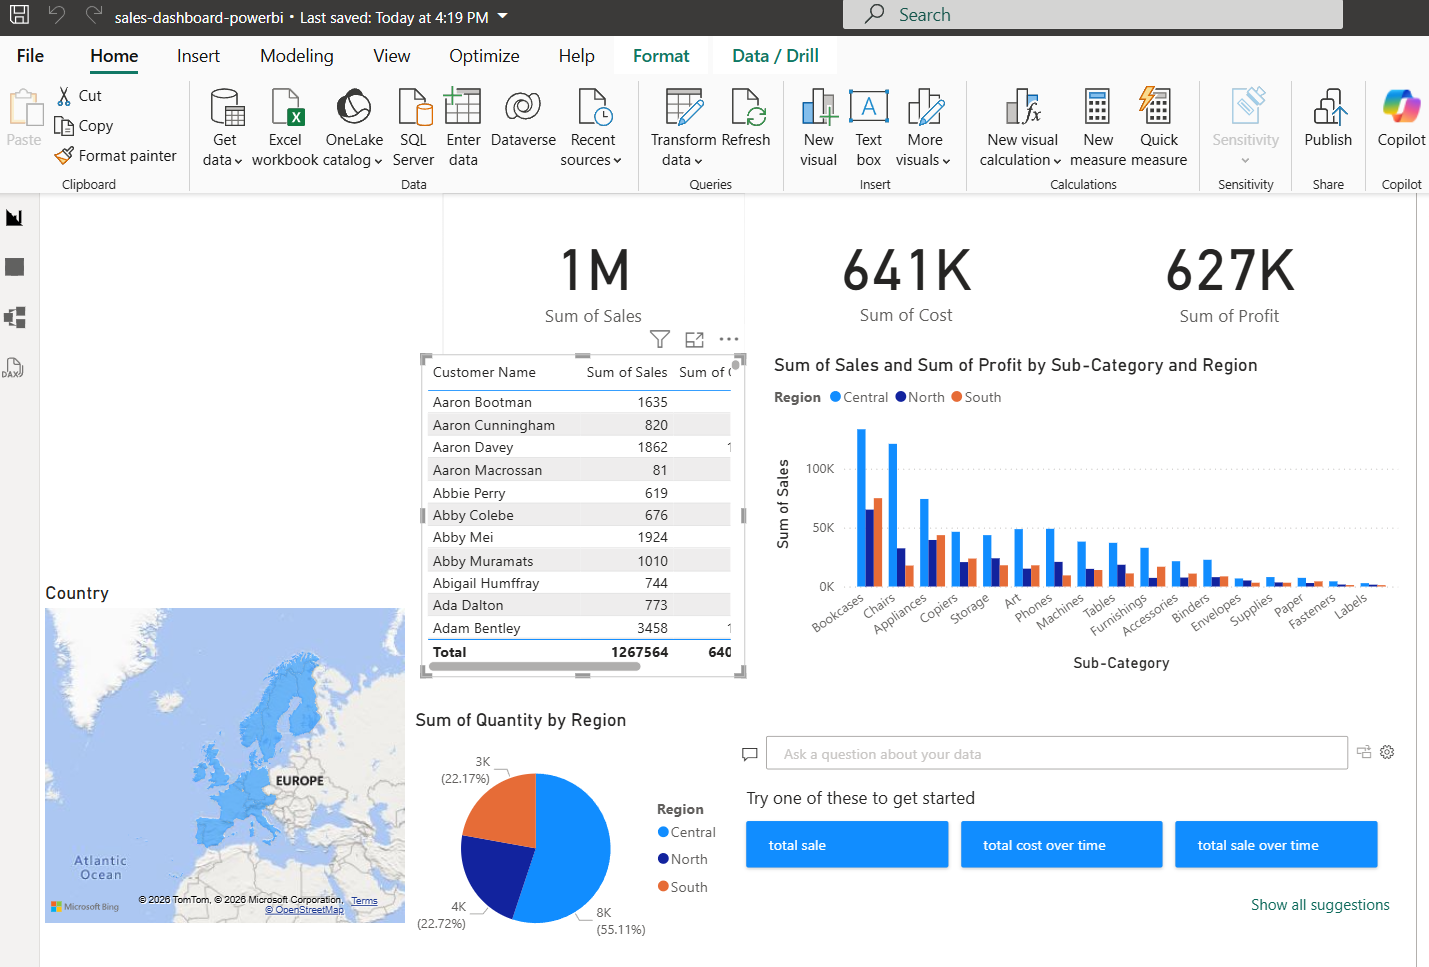

The page's visual inventory and layout, read from the dashboard file:
{"tool":"powerbi","page":{"name":"Page 1","canvas":[1280,720],"ordinal":0},"visuals":[{"type":"card","fields":{"Values":["Sum(List of Orders.Sales)"]},"box":[374.6,0,281.3,150.9],"z":0},{"type":"card","fields":{"Values":["Sum(List of Orders.Cost)"]},"box":[655.9,0,300.5,149.6],"z":1000},{"type":"card","fields":{"Values":["Sum(List of Orders.Profit)"]},"box":[944.1,0,325.2,150.9],"z":2000},{"type":"tableEx","fields":{"Values":["List of Orders.Customer Name","Sum(List of Orders.Sales)","Sum(List of Orders.Cost)","Sum(List of Orders.Profit)"]},"box":[354.1,149.9,302,299.8],"z":3000},{"type":"clusteredColumnChart","fields":{"Y":["Sum(List of Orders.Sales)"],"Category":["List of Orders.Sub-Category"],"Series":["List of Orders.Region"]},"box":[677.8,149.9,590.9,299.8],"z":4000},{"type":"pieChart","fields":{"Category":["List of Orders.Region"],"Y":["Sum(List of Orders.Quantity)"]},"box":[344.6,480,299.5,240],"z":5000},{"type":"filledMap","fields":{"Category":["List of Orders.Country"]},"box":[0,362,344,322],"z":6000},{"type":"qnaVisual","box":[644.1,480.1,624.6,239.9],"z":7000}]}

Visuals, with their boxes on the page's 1280x720 design canvas (x1, y1, x2, y2). These are canvas units, not pixel positions in the 1429x967 screenshot, which may show the page scaled, cropped or inside an application window:
card - Sum(List of Orders.Sales): [left=375, top=0, right=656, bottom=151]
card - Sum(List of Orders.Cost): [left=656, top=0, right=956, bottom=150]
card - Sum(List of Orders.Profit): [left=944, top=0, right=1269, bottom=151]
tableEx - List of Orders.Customer Name x Sum(List of Orders.Sales): [left=354, top=150, right=656, bottom=450]
clusteredColumnChart - Sum(List of Orders.Sales) x List of Orders.Sub-Category: [left=678, top=150, right=1269, bottom=450]
pieChart - List of Orders.Region x Sum(List of Orders.Quantity): [left=345, top=480, right=644, bottom=720]
filledMap - List of Orders.Country: [left=0, top=362, right=344, bottom=684]
qnaVisual: [left=644, top=480, right=1269, bottom=720]
